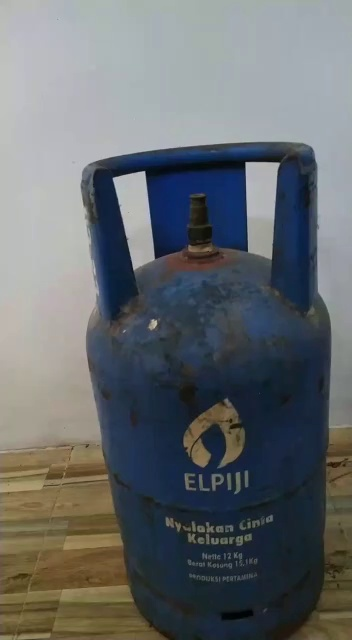blue_gas: (80, 141, 334, 640)
